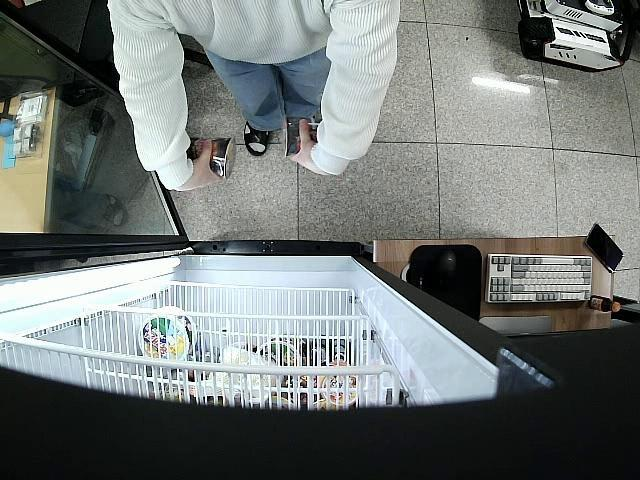08_buldak_S: (191, 134, 236, 181), (279, 116, 320, 159)
